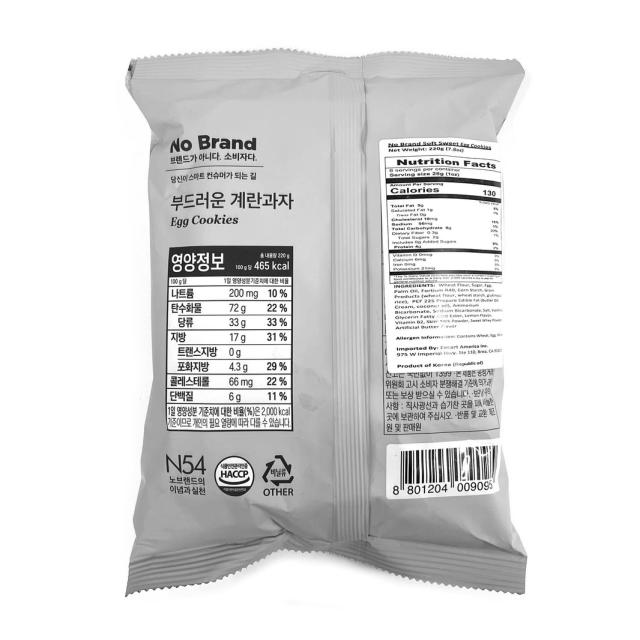Nutrition Label: (160, 236, 300, 441)
